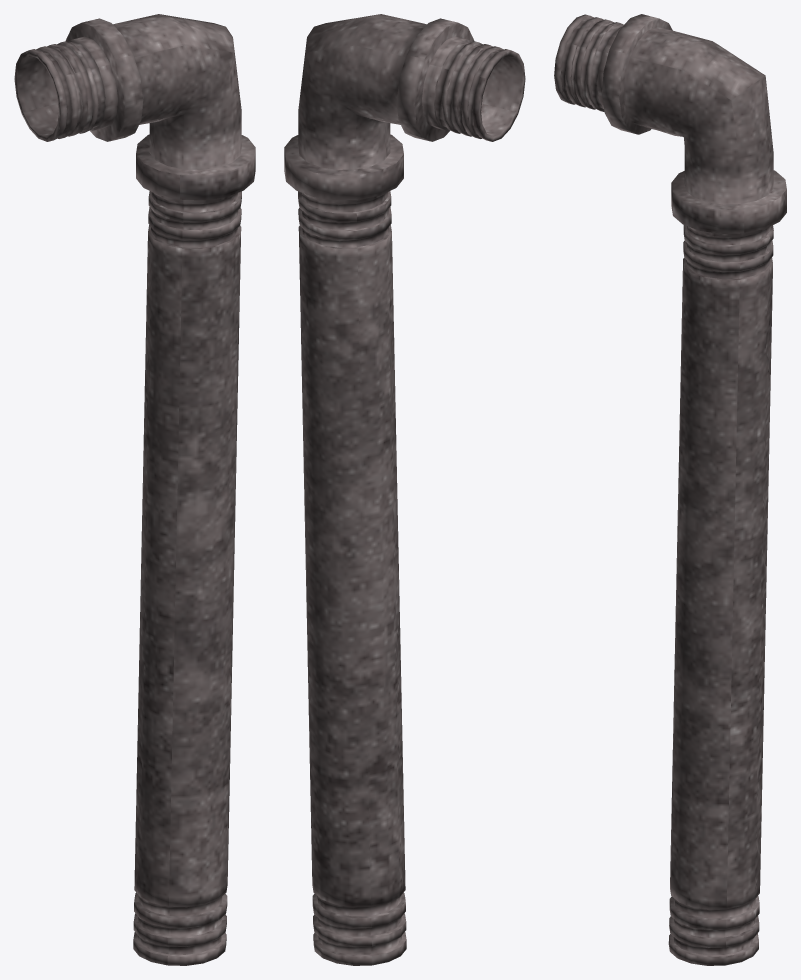
File: metal_pipe.fbx
3 renders of one model, left to right at view 1: azimuth 30°, elevation 25°; view 2: azimuth 150°, elevation 25°; view 3: azimuth 330°, elevation 25°, orthographic. The views are drawn at different scales.
Parts seen in each view (by area): view 1: Cylinder; view 2: Cylinder; view 3: Cylinder.
Part boxes in pixels (left/top/right/bottom): Cylinder: left=14, top=14, right=255, bottom=965; Cylinder: left=284, top=14, right=525, bottom=965; Cylinder: left=554, top=14, right=786, bottom=965.
Size of the model in its own units: 99.88 by 426 by 50.43.
1 material, 1 textured.
